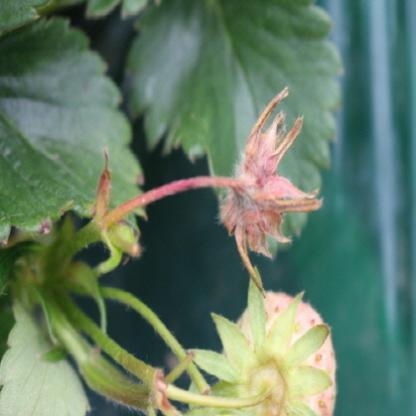Strawberry_Gray_Mold: (180, 84, 324, 300)
